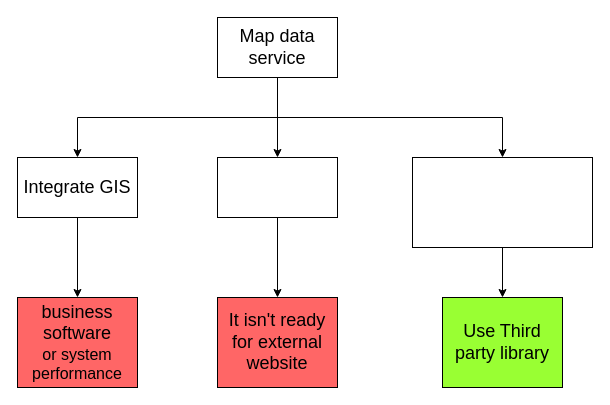
The diagram is 610 pixels wide and 405 high, and some of its shapes have lost their labels. The shapes that lost their labels are listed below. From the top down, each one's box as (x1, y1, x2, y2) in pixels, then its label:
(216, 156, 338, 218): Amazon Visualization
(412, 156, 592, 248): Draw world outline our own with public data
